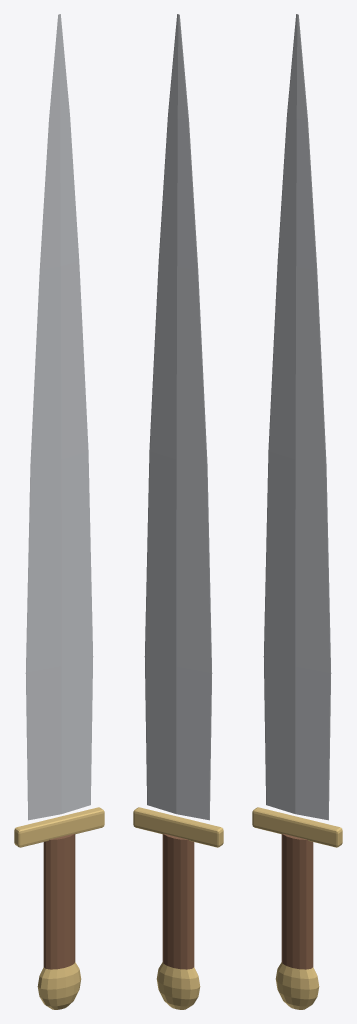
The model's file is sword.glb.
3 views of the same model, side by side, from view 1: azimuth 30°, elevation 25°; view 2: azimuth 150°, elevation 25°; view 3: azimuth 330°, elevation 25° (orthographic).
Parts seen in each view (by area): view 1: weapon_sword; view 2: weapon_sword; view 3: weapon_sword.
Part boxes in pixels (<box>): weapon_sword: <box>14,14,104,1009</box>; weapon_sword: <box>133,14,223,1009</box>; weapon_sword: <box>252,14,342,1009</box>.
Bounding box in the file's own units: 0.135 × 1.48 × 0.036.
